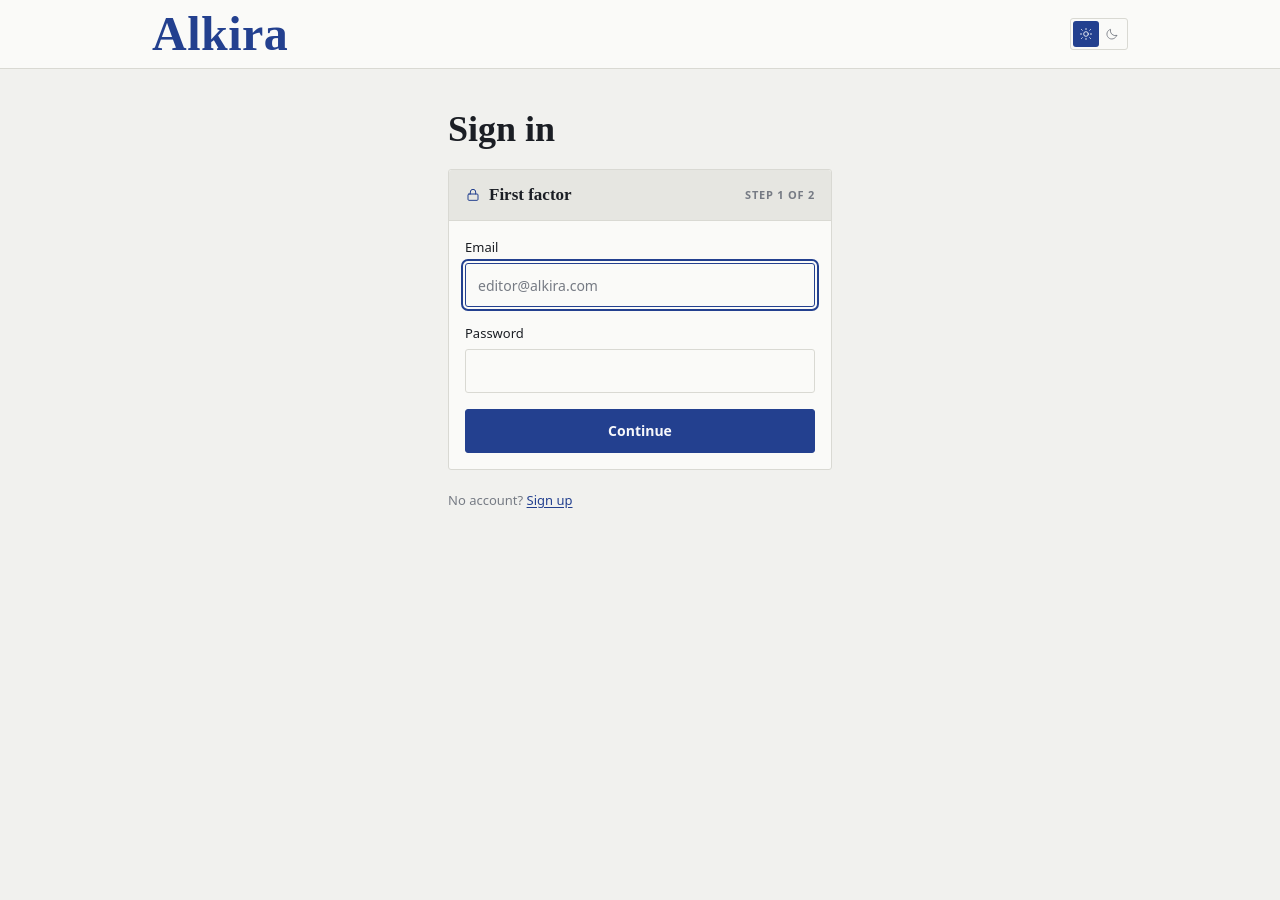
Test: sign up › rejects a confirmation that does not match
The image size is (1280, 900).
Click the link "Sign up".
click(550, 500)  # box [527,491,572,509]
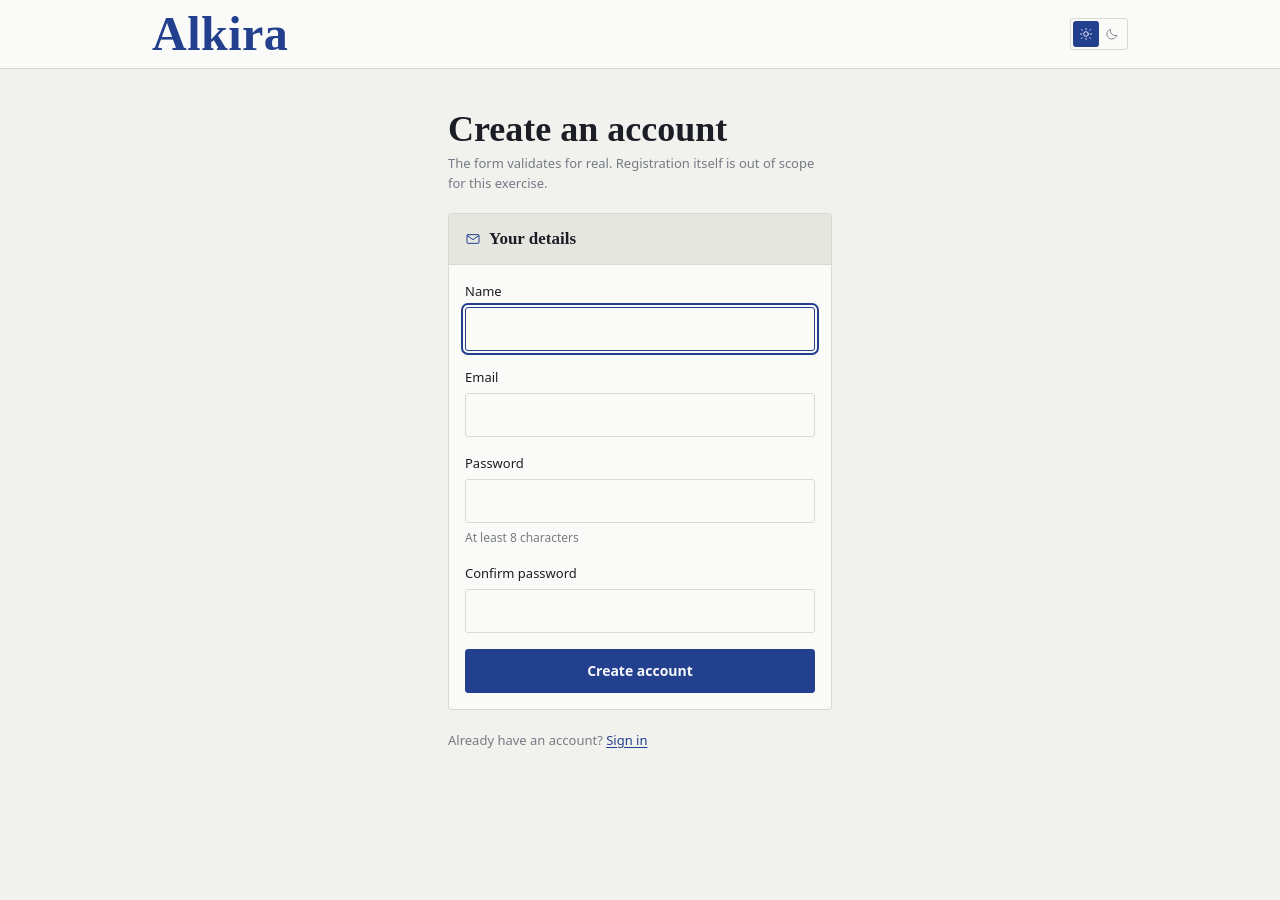
expect the heading "Create an account" is shown: met, box [448,109,727,149]
Type "Ada Lovelace" into the field labelled "Name".
click(640, 329); type("Ada Lovelace")  # box [465,307,815,351]
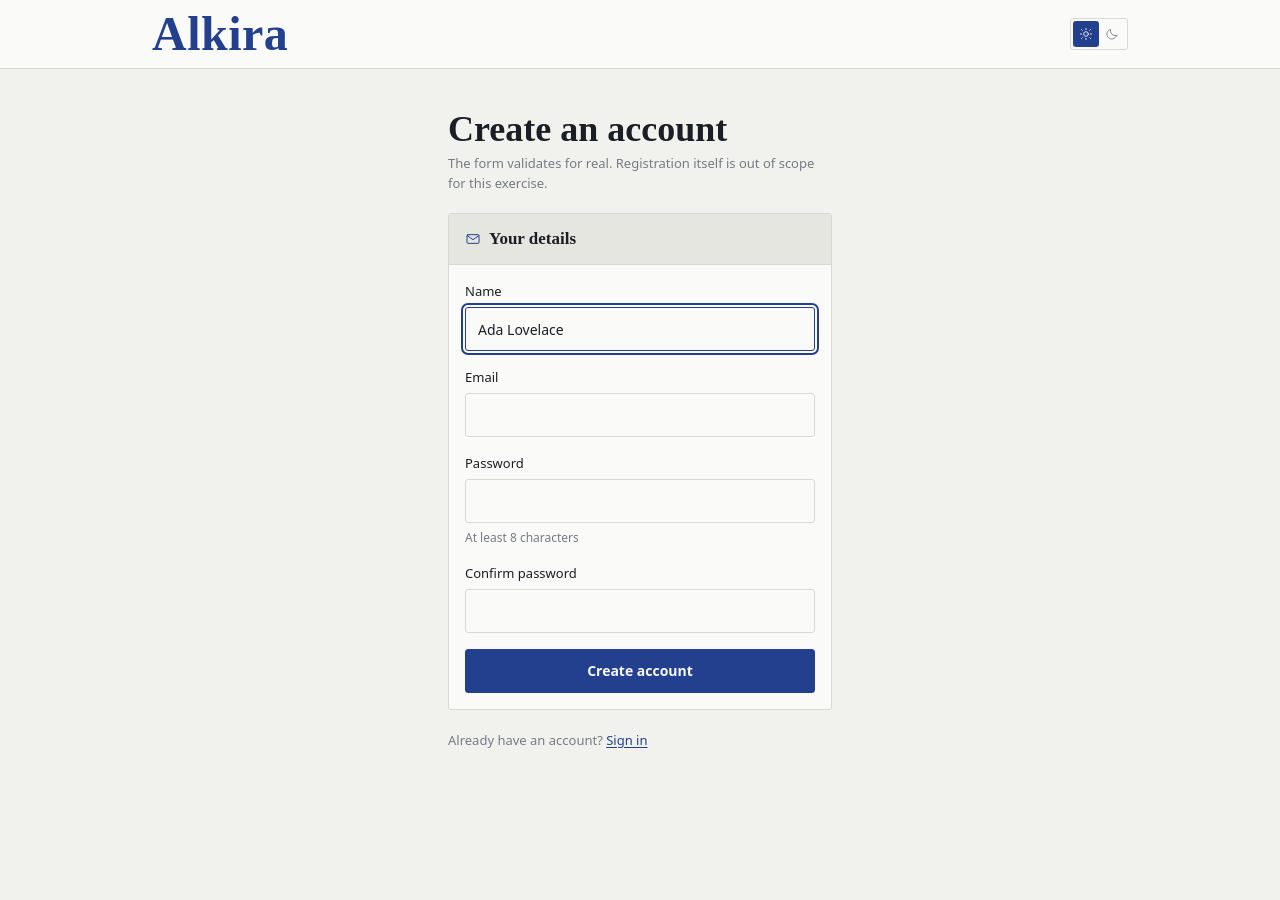
Type "ada@alkira.com" into the field labelled "Email".
click(640, 415); type("ada@alkira.com")  # box [465,393,815,437]
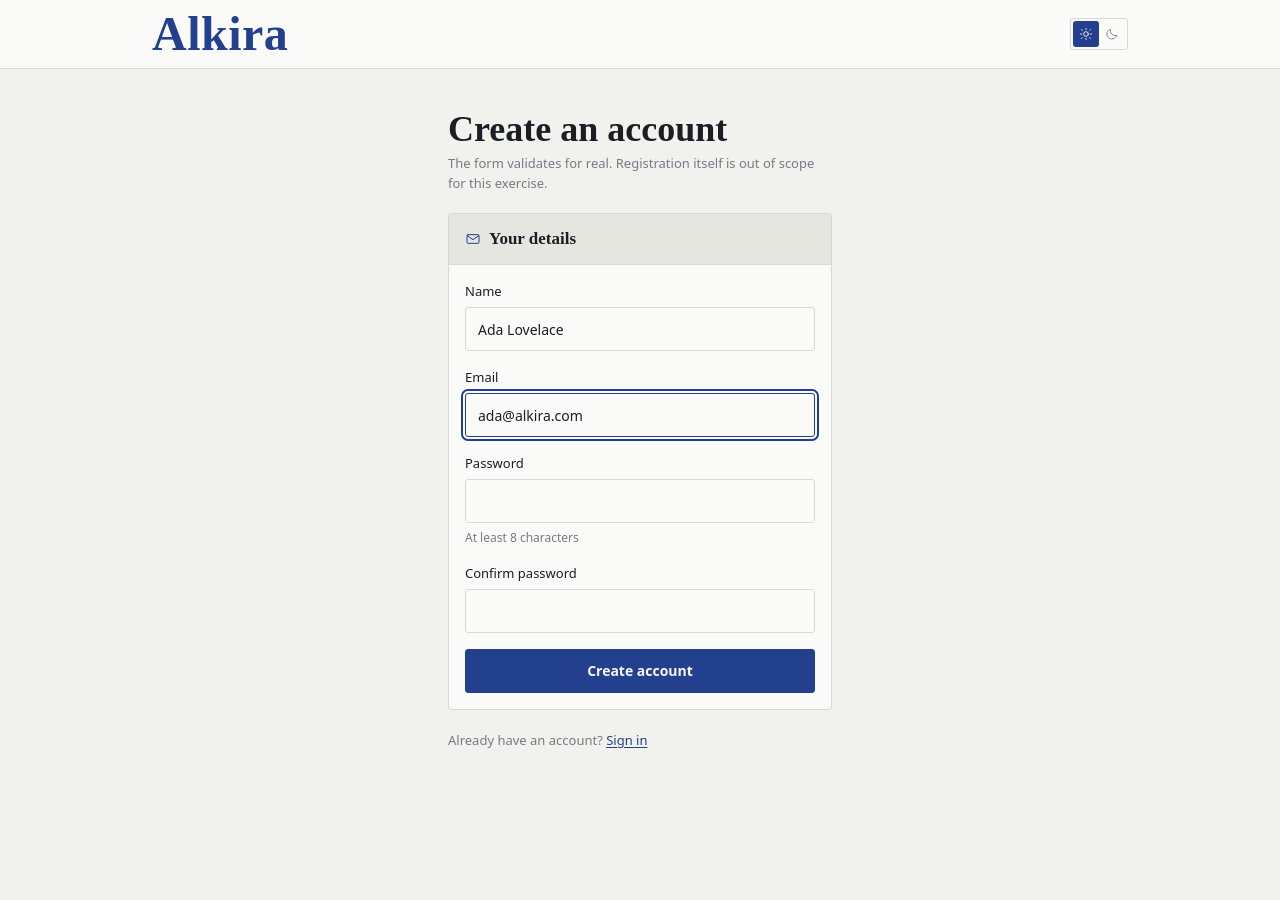
Type "Password123!" into the password field labelled "Password".
click(640, 501); type("Password123!")  # box [465,479,815,523]
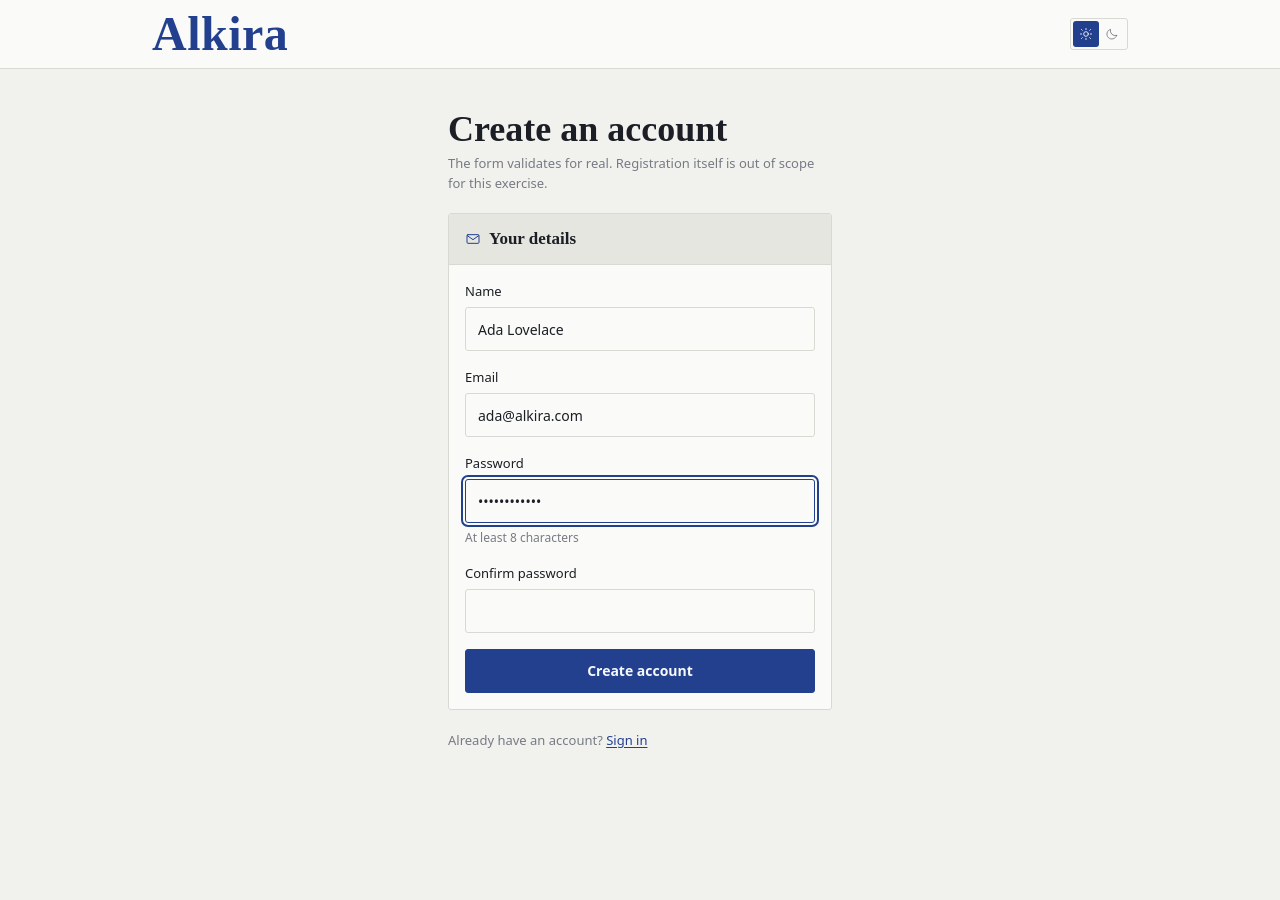
Type "Password456!" into the password field labelled "Confirm password".
click(640, 611); type("Password456!")  # box [465,589,815,633]
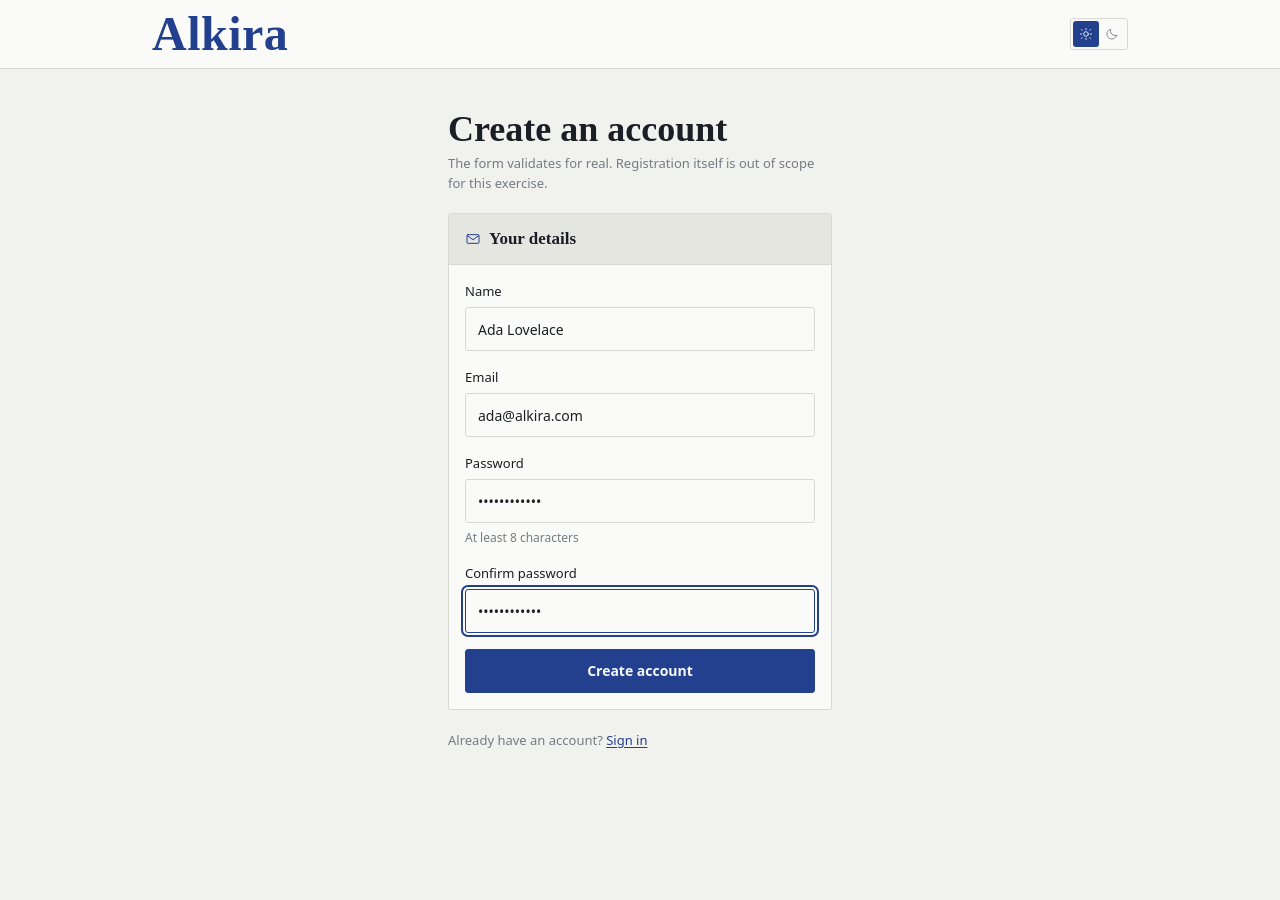
Click the button "Create account".
click(640, 671)  # box [465,649,815,693]
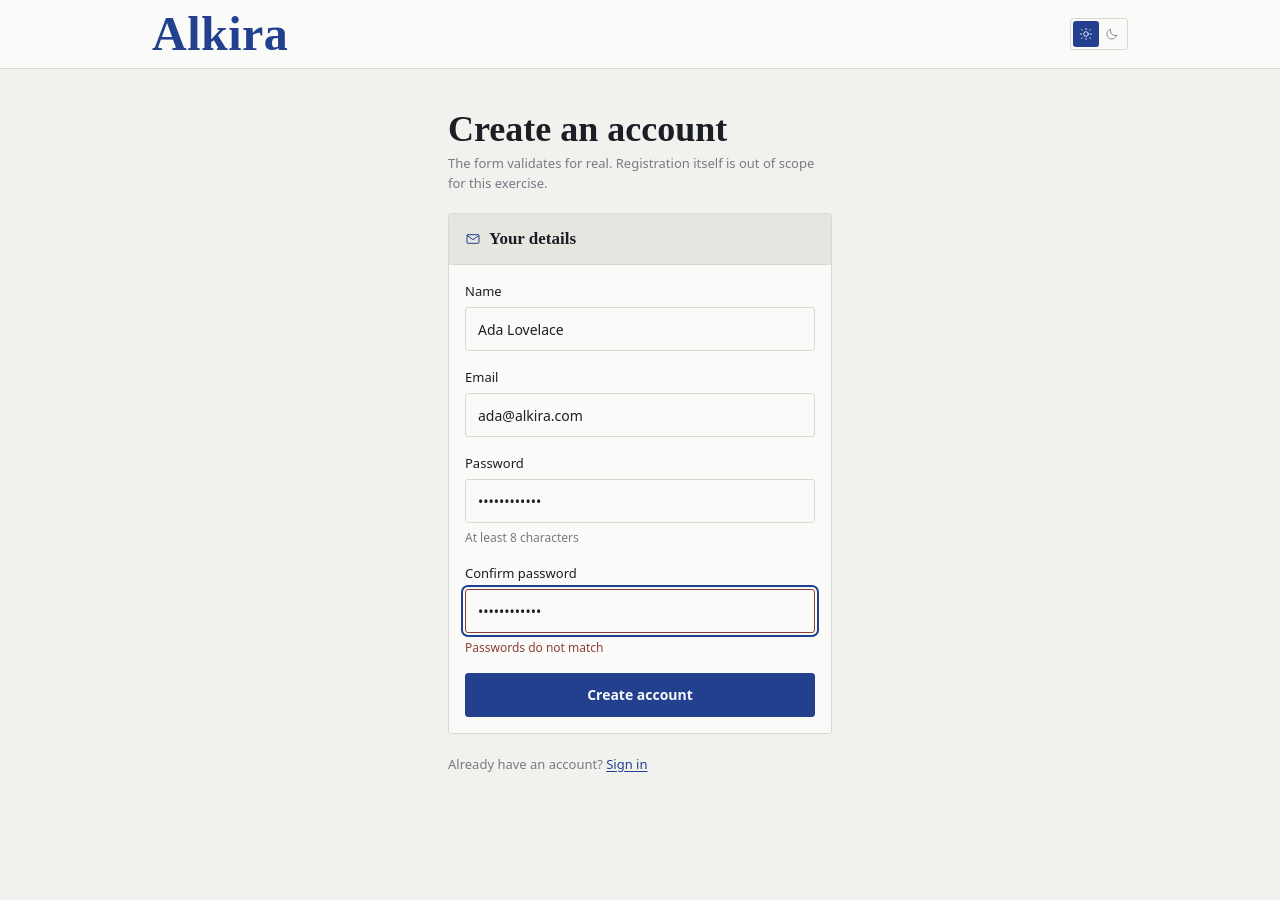
expect the text "Passwords do not match" is shown: met, box [465,639,604,656]
